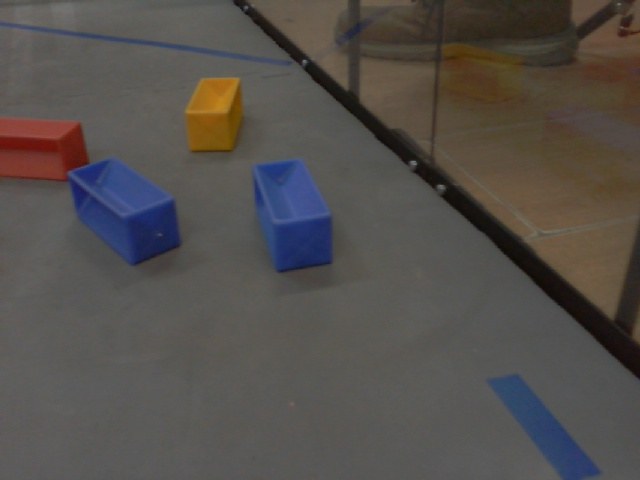BlueSample: (63, 155, 183, 268), (249, 155, 337, 273)
RedSample: (1, 112, 92, 182)
YellowSample: (182, 72, 246, 157)
